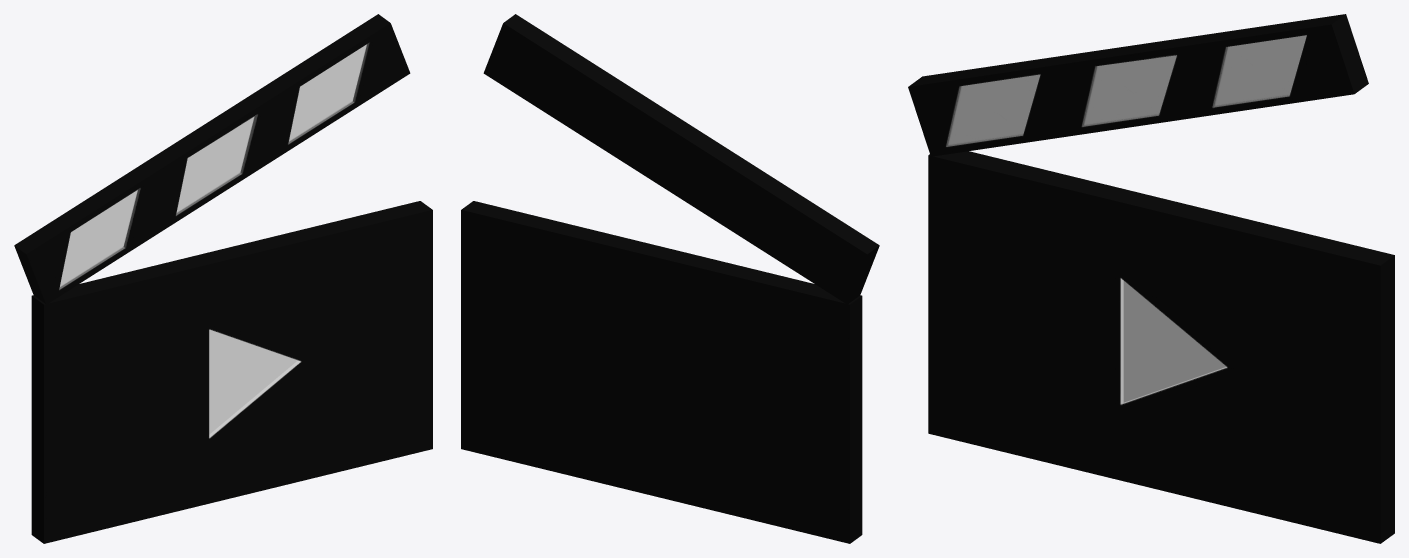
The model's file is clapper.fbx.
The picture shows the model from 3 angles, left to right: view 1: azimuth 30°, elevation 25°; view 2: azimuth 150°, elevation 25°; view 3: azimuth 330°, elevation 25°; orthographic projection. The views are drawn at different scales.
Parts seen in each view (by area): view 1: clapper_final; view 2: clapper_final; view 3: clapper_final.
Boxes of the visible parts, x1,y1,x2,y2 form: clapper_final: (14,14,432,543); clapper_final: (461,14,879,543); clapper_final: (908,14,1394,543).
Bounding box in the file's own units: 4.99 × 5.13 × 0.2644.
1 material, 1 textured.
